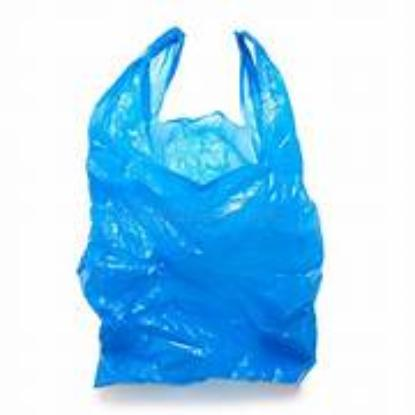Plastic Bag: (79, 29, 326, 387)
